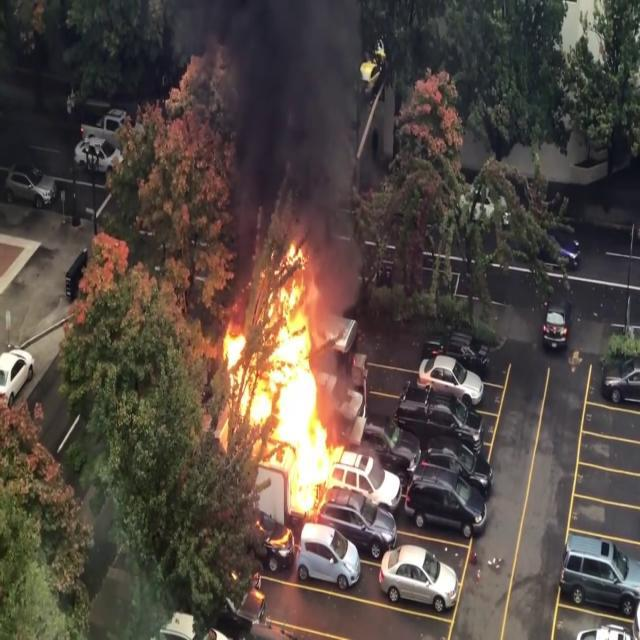Fire: (215, 234, 364, 522)
Smoke: (208, 1, 380, 262)
